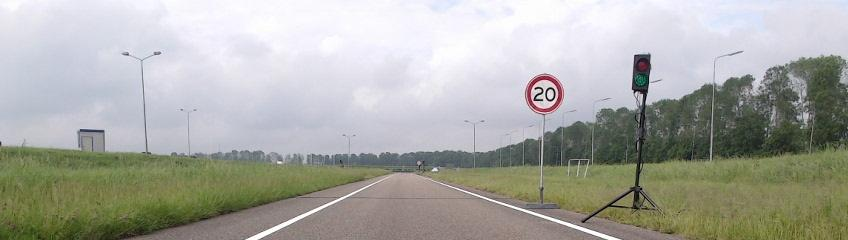Speed-limit-20km-h-: (525, 74, 564, 115)
TrafficLight-green: (632, 54, 650, 90)
